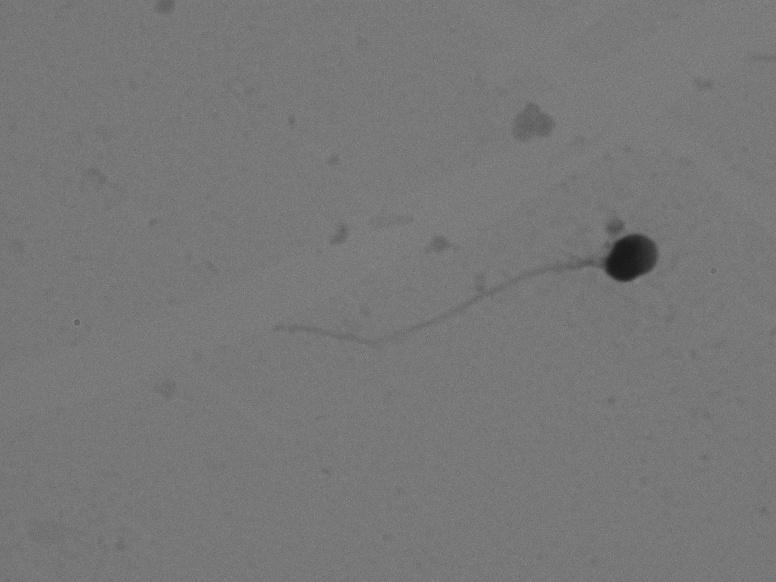Abnormal: (259, 213, 684, 370)
